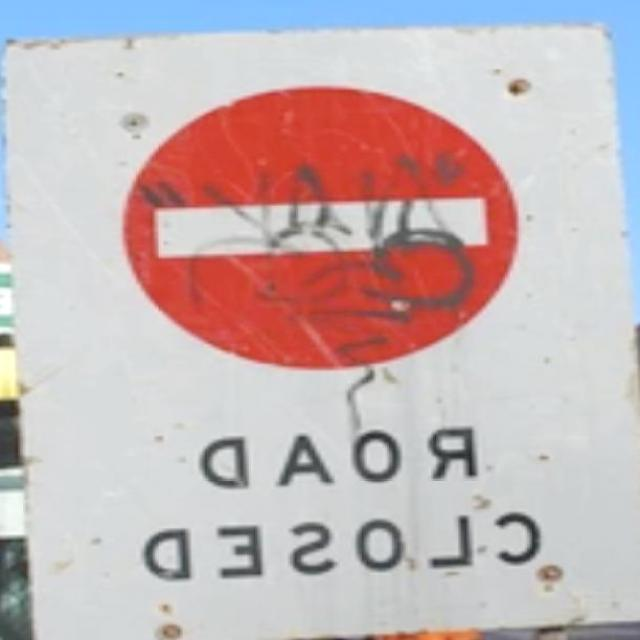Damage: (0, 0, 640, 640)
Vandalism: (0, 0, 640, 640)
Wear: (0, 0, 640, 640)
